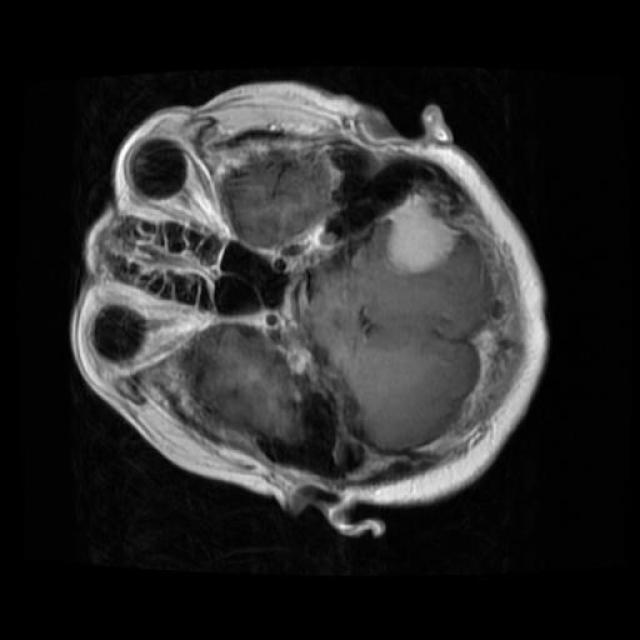Meningioma: (387, 195, 457, 273)
